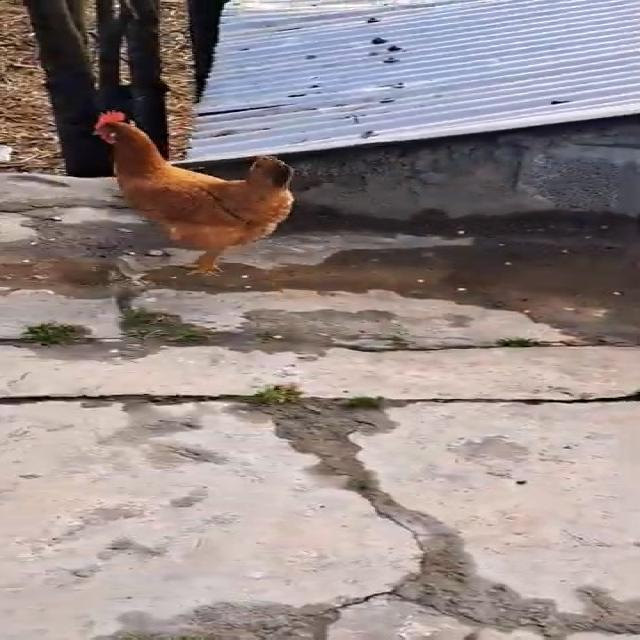walking: (75, 80, 316, 288)
